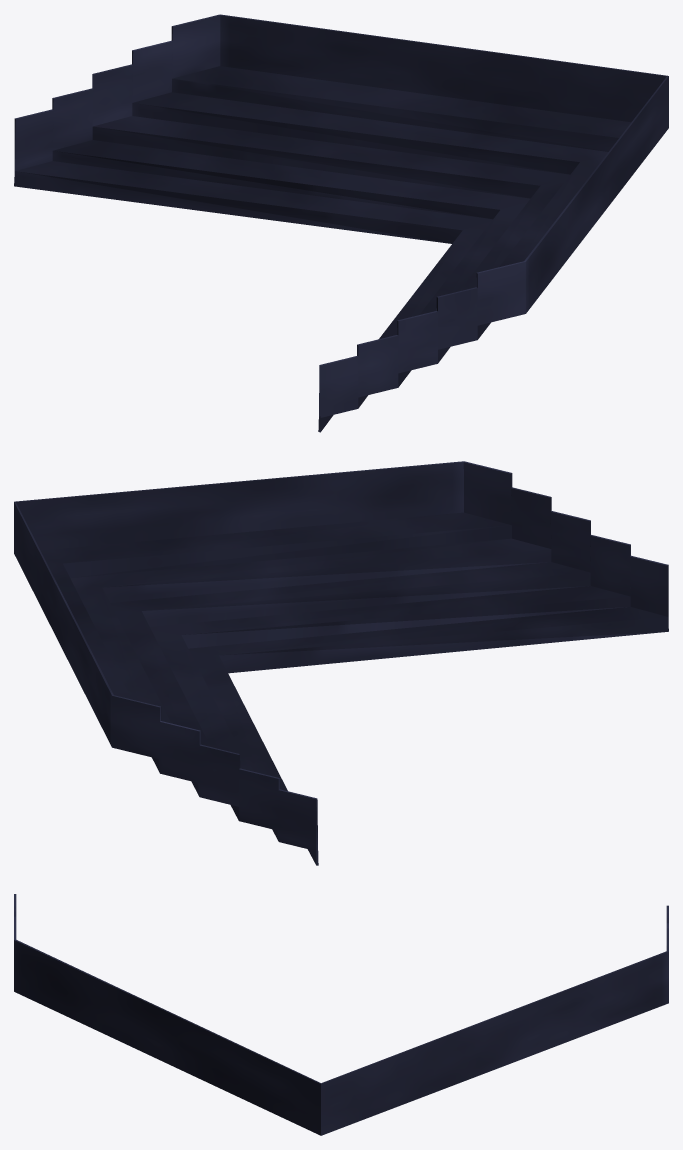
The model's file is bleacher-v2.2.dae.
3 views of the same model, one above another, from view 1: azimuth 30°, elevation 25°; view 2: azimuth 150°, elevation 25°; view 3: azimuth 270°, elevation 25° (orthographic).
Parts seen in each view (by area): view 1: Cube; view 2: Cube; view 3: Cube.
Part boxes in pixels (<box>): Cube: <box>14,14,668,432</box>; Cube: <box>14,461,668,865</box>; Cube: <box>14,894,668,1135</box>.
Size of the model in its own units: 2.49 by 2.83 by 0.5714.
1 material, 1 textured.
